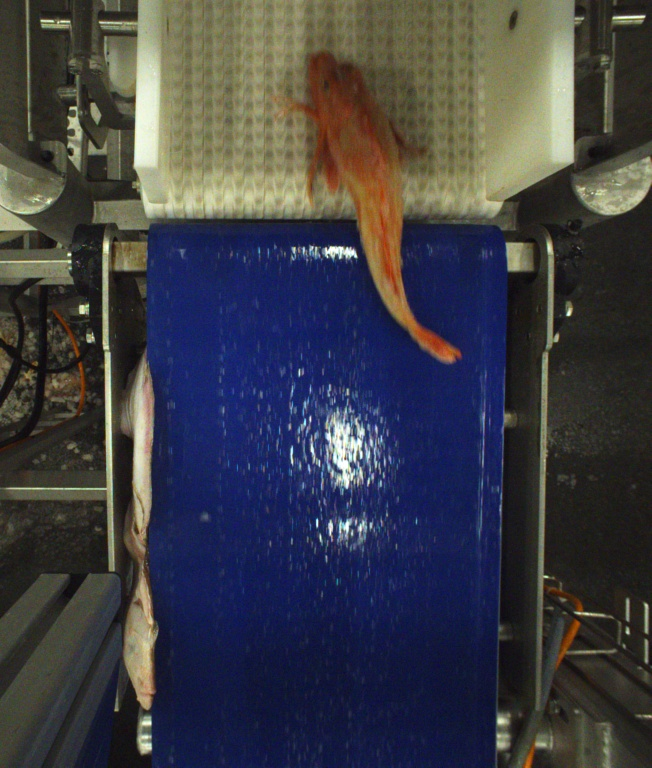GUU: (276, 50, 464, 363)
